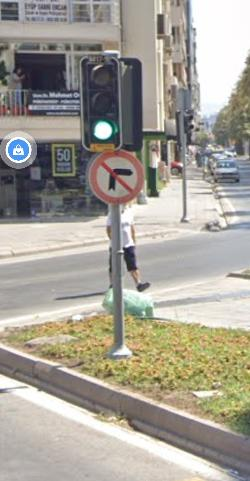greenlight: (82, 57, 119, 143)
rightturnsareforbidden: (91, 149, 145, 203)
